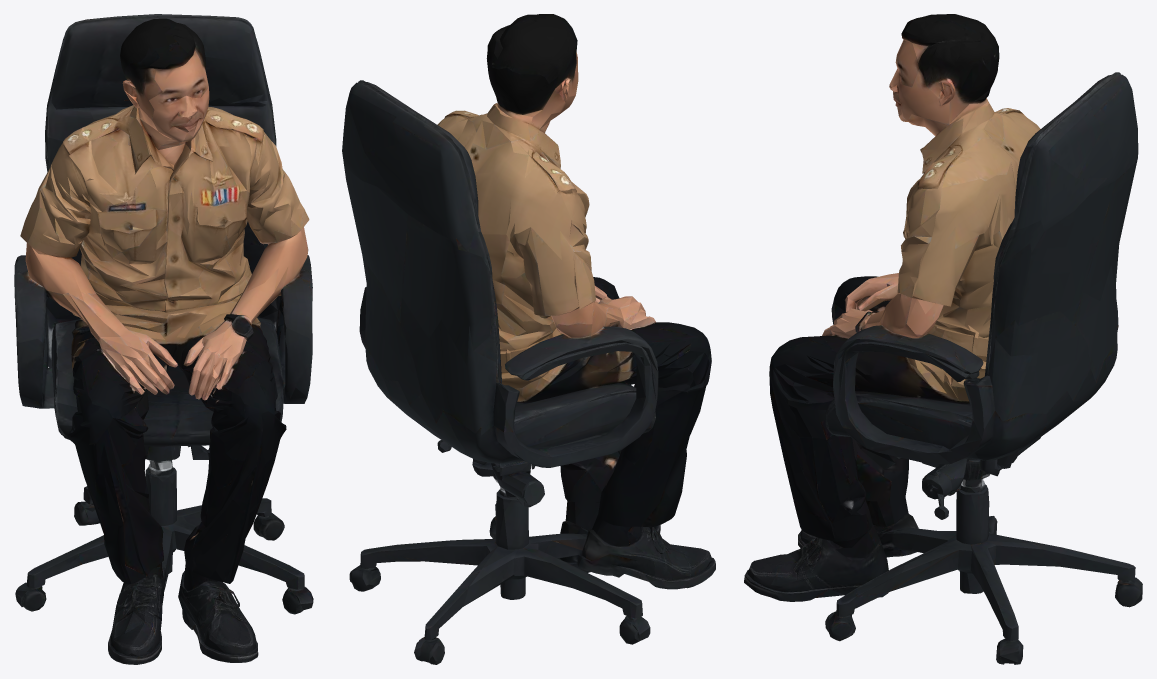
File: duduk-pria.glb
The picture shows the model from 3 angles, left to right: view 1: azimuth 30°, elevation 25°; view 2: azimuth 150°, elevation 25°; view 3: azimuth 270°, elevation 25°; orthographic projection. The views are drawn at different scales.
Bounding box in the file's own units: 1.01 × 1.9 × 1.19.
Materials: 1 (1 with a texture image).
